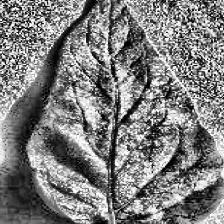spider mites: (25, 0, 224, 224)
